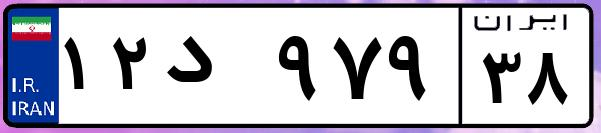1: (57, 26, 110, 100)
2: (110, 28, 158, 98)
3: (475, 38, 525, 113)
7: (330, 28, 385, 110)
8: (525, 38, 570, 115)
9: (270, 28, 330, 110), (385, 28, 445, 110)
د: (158, 20, 270, 120)
